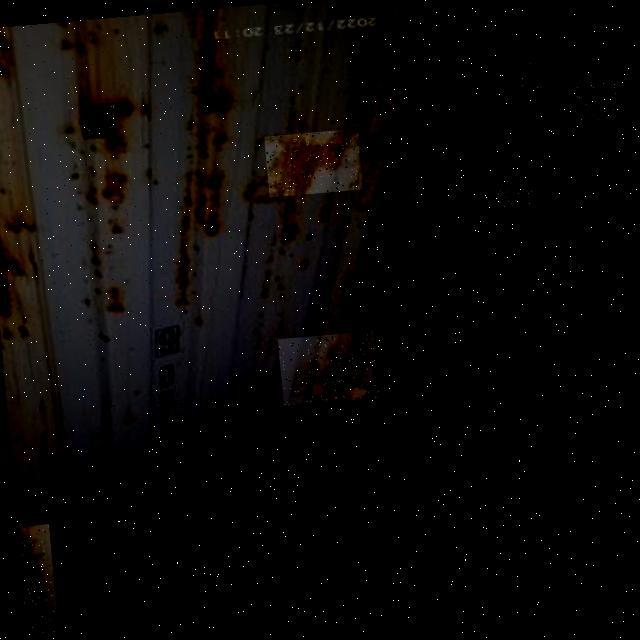Rust: (277, 331, 379, 406), (263, 128, 362, 197), (17, 523, 59, 640), (576, 81, 624, 122), (510, 43, 539, 91), (81, 102, 118, 139), (498, 187, 534, 214)
